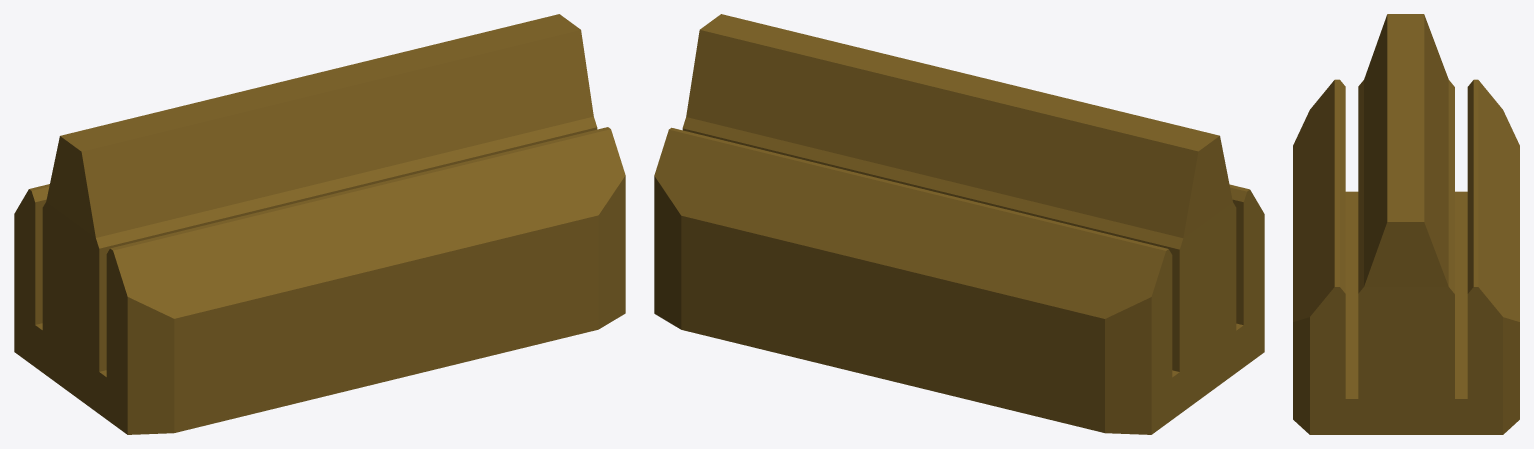
The model's file is MenuStand.fbx.
3 renders of one model, left to right at view 1: azimuth 30°, elevation 25°; view 2: azimuth 150°, elevation 25°; view 3: azimuth 270°, elevation 25°, orthographic. The views are drawn at different scales.
Parts seen in each view (by area): view 1: MenuStand; view 2: MenuStand; view 3: MenuStand.
Boxes of the visible parts, box(x1,y1,x2,y2) form: MenuStand: box(14, 14, 625, 434); MenuStand: box(654, 14, 1264, 434); MenuStand: box(1293, 14, 1519, 434).
Bounding box in the file's own units: 323 × 155 × 149.
